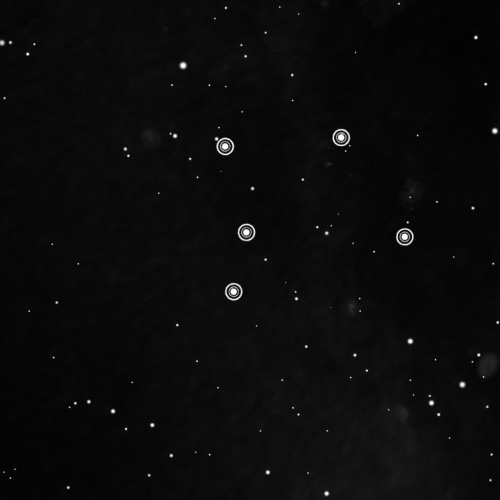libra: (210, 124, 420, 308)
